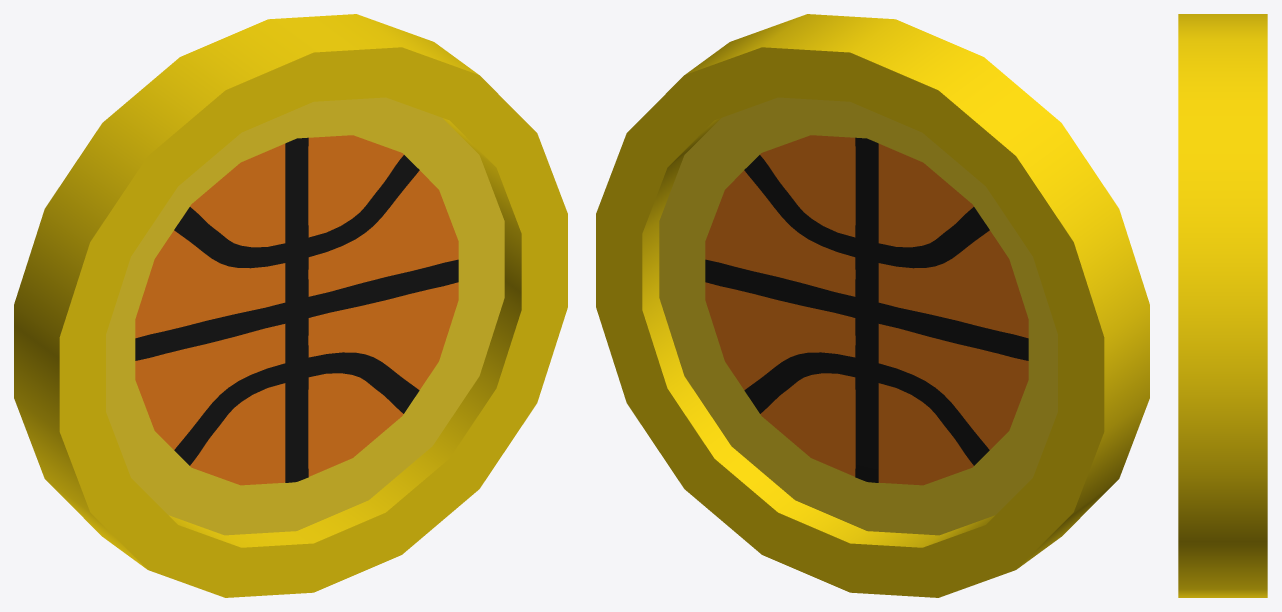
Rendered from Coin Basketball A.fbx.
3 views of the same model, side by side, from view 1: azimuth 30°, elevation 25°; view 2: azimuth 150°, elevation 25°; view 3: azimuth 270°, elevation 25° (orthographic).
Visible parts, largest first — view 1: Coin Basketball A; view 2: Coin Basketball A; view 3: Coin Basketball A.
Part boxes in pixels (left/top/right/bottom): Coin Basketball A: left=14, top=14, right=567, bottom=597; Coin Basketball A: left=596, top=14, right=1149, bottom=597; Coin Basketball A: left=1178, top=14, right=1267, bottom=597.
Size of the model in its own units: 104 by 106 by 16.18.
